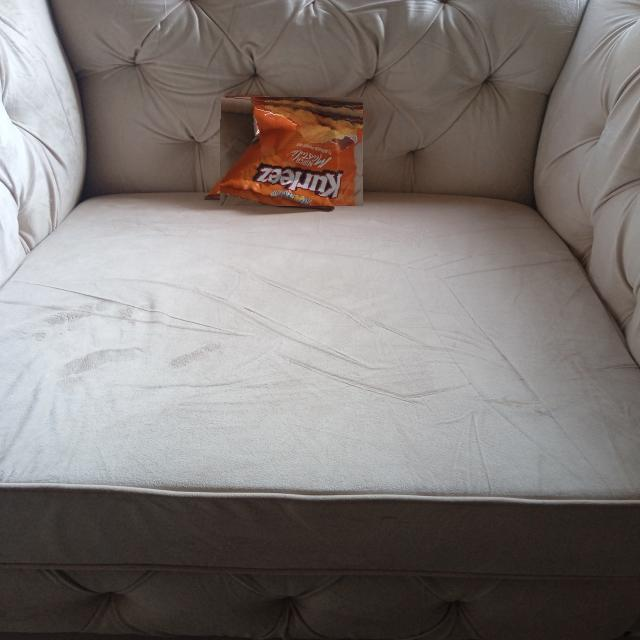Plastic: (220, 96, 363, 206)
